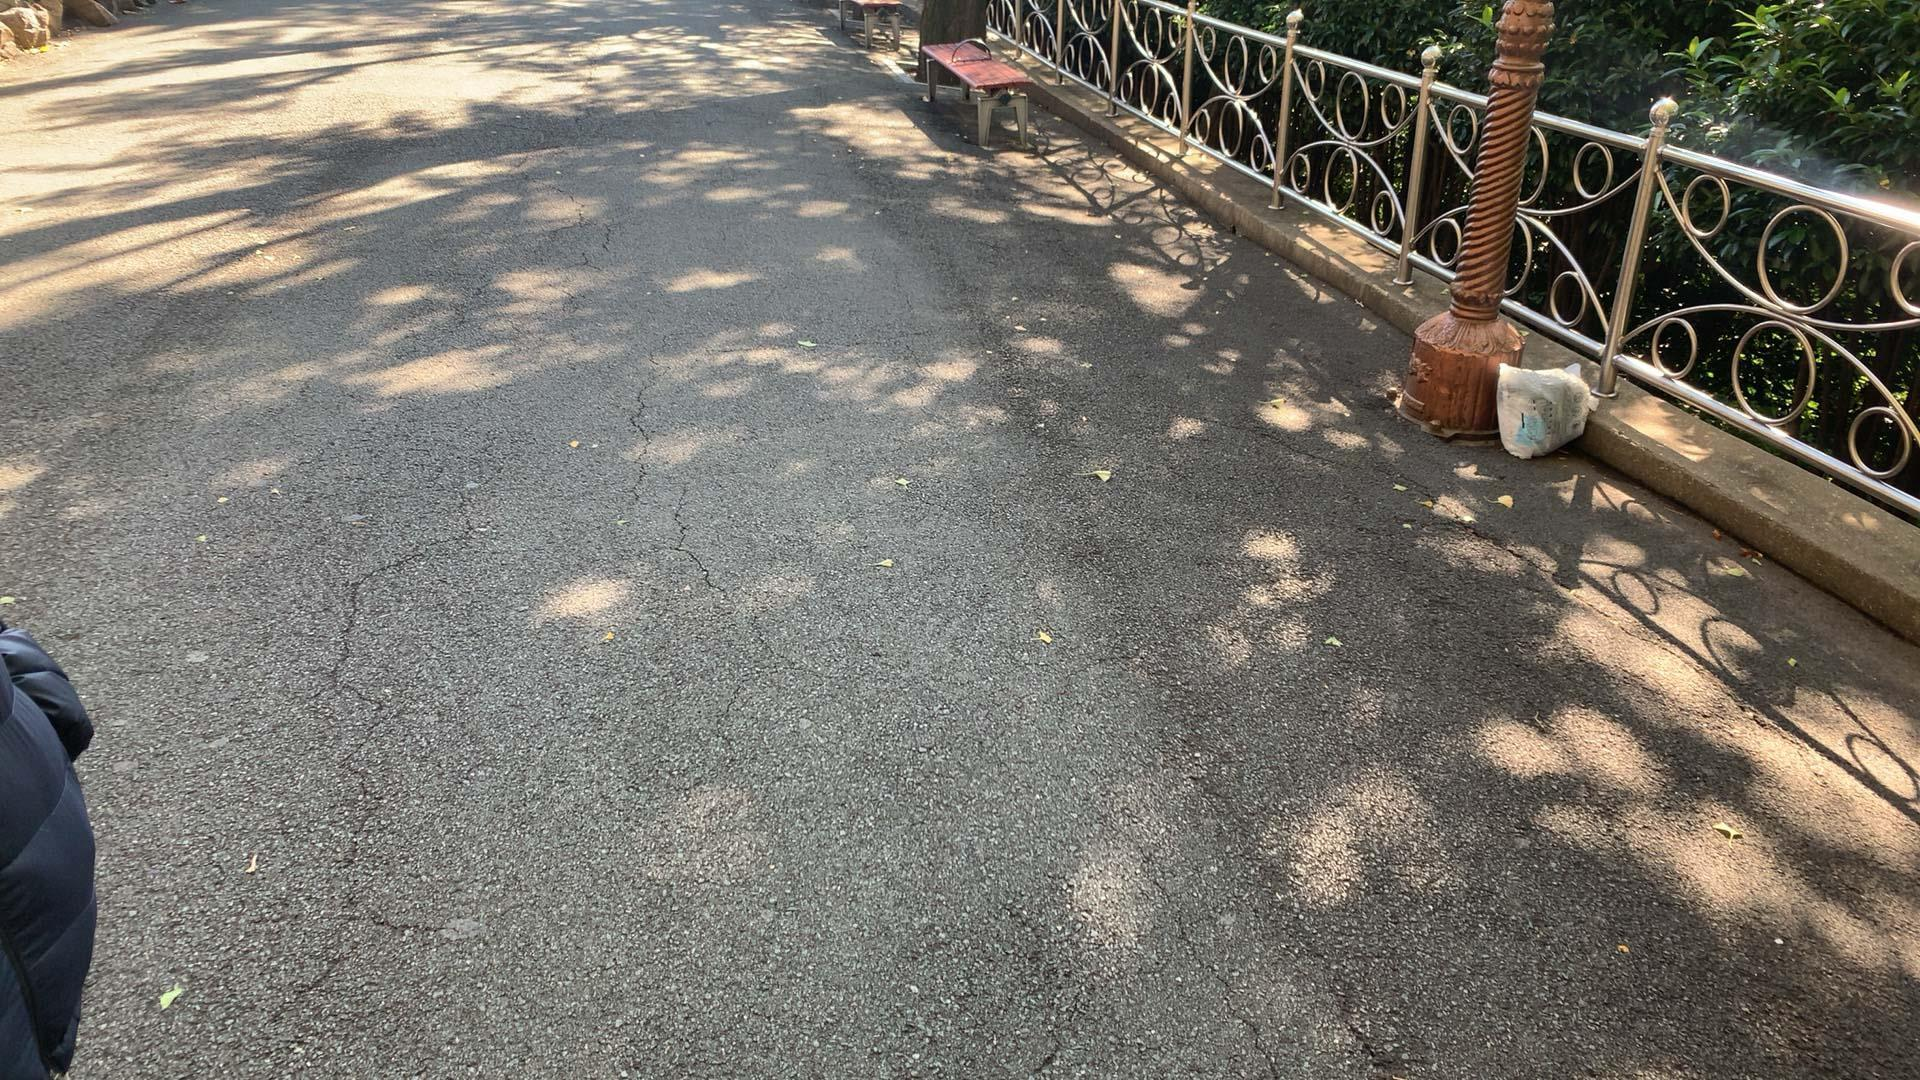white_bag: (1481, 351, 1604, 468)
